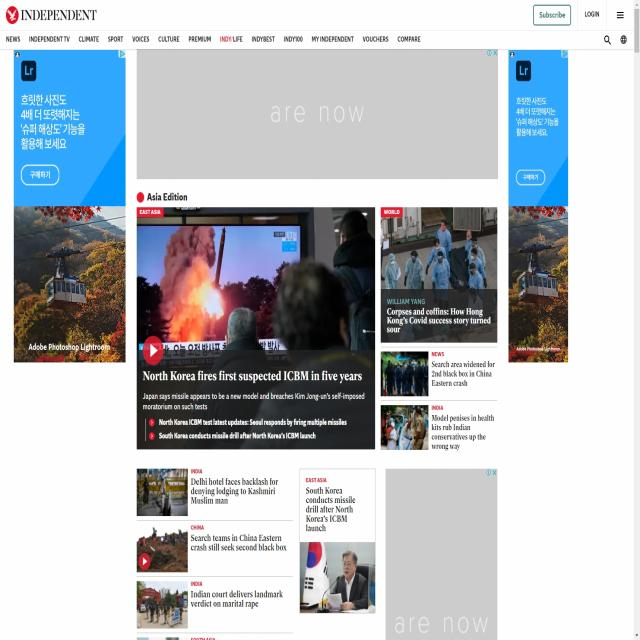menu-bar: (1, 29, 428, 49)
